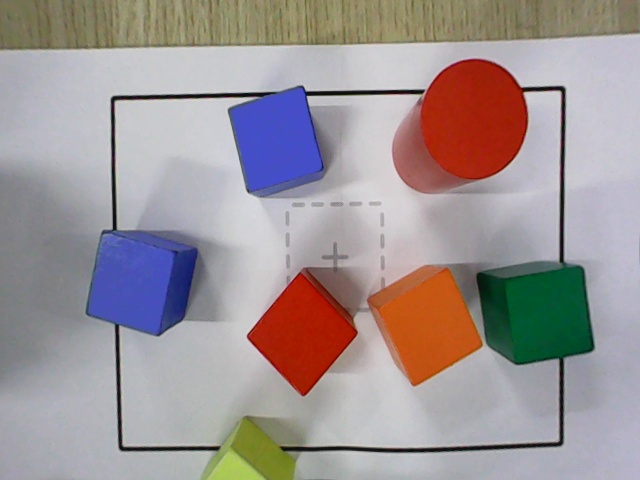upside of cylinder: (422, 58, 528, 179)
upside of small cube: (245, 272, 358, 397), (377, 268, 483, 386), (227, 86, 324, 194), (85, 229, 177, 337), (503, 266, 594, 365), (204, 447, 270, 479)
